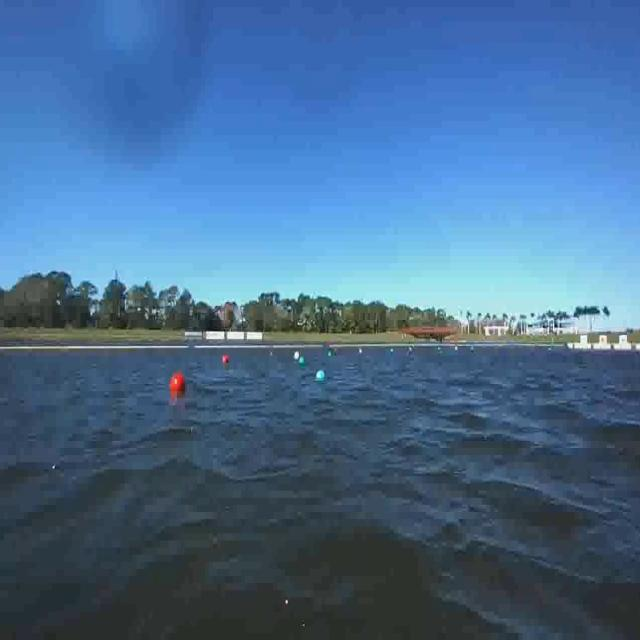green-buoy: (316, 368, 326, 380), (298, 356, 304, 368)
red-buoy: (174, 372, 188, 392), (222, 354, 229, 364)
